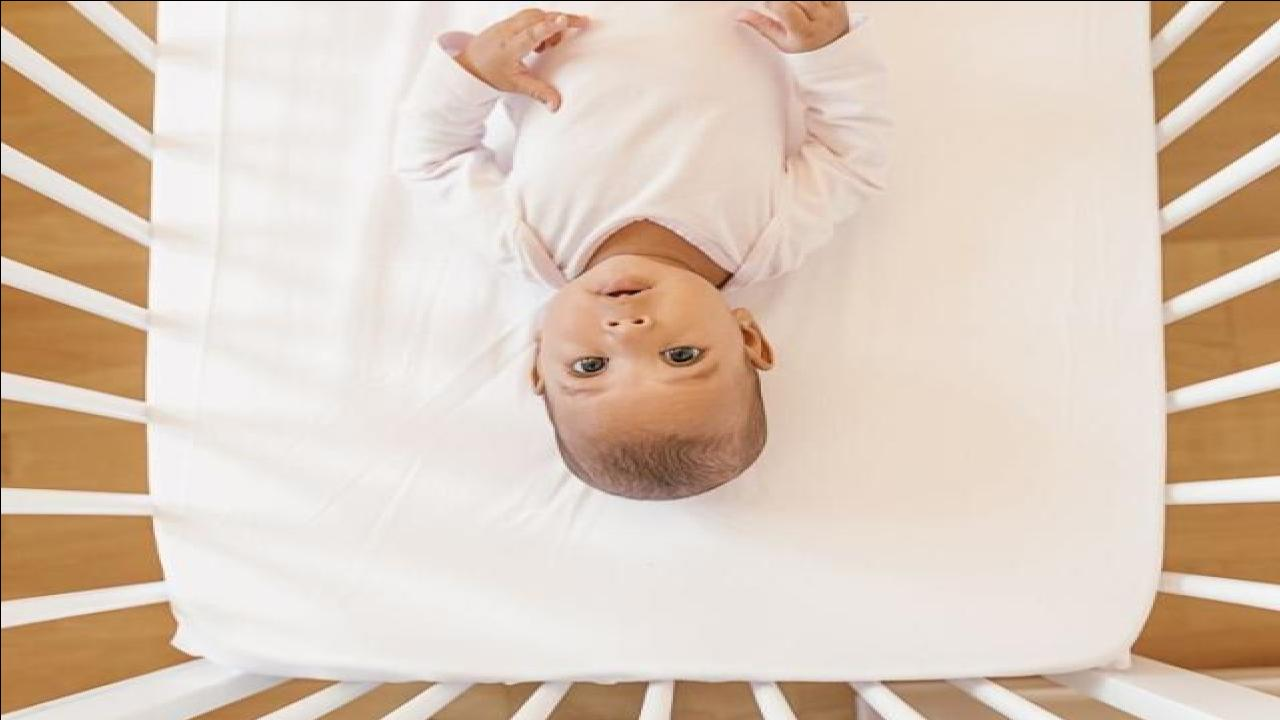hand: (460, 6, 572, 111), (738, 0, 854, 55)
